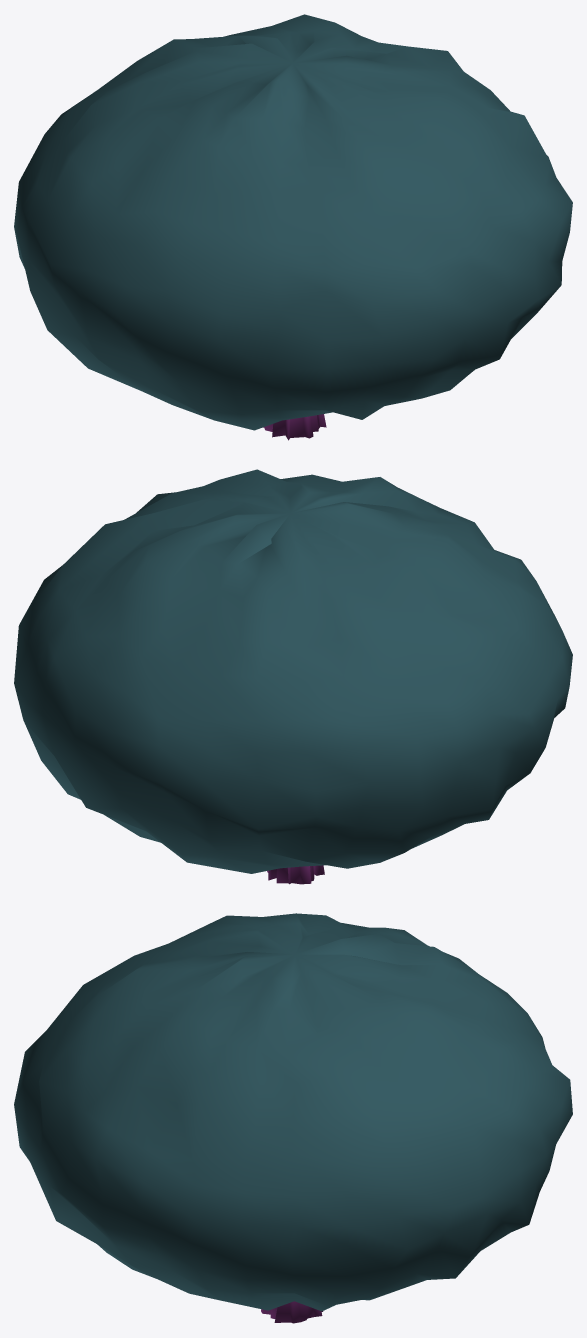
The model's file is BushNoFruit.glb.
3 renders of one model, top to bottom at view 1: azimuth 30°, elevation 25°; view 2: azimuth 150°, elevation 25°; view 3: azimuth 270°, elevation 25°, orthographic.
Visible parts, largest first — view 1: Bush; view 2: Bush; view 3: Bush.
Part boxes in pixels (left/top/right/bottom): Bush: left=14, top=14, right=572, bottom=440; Bush: left=14, top=469, right=572, bottom=884; Bush: left=14, top=913, right=572, bottom=1323.
Bounding box in the file's own units: 3.07 × 2.26 × 3.14.
